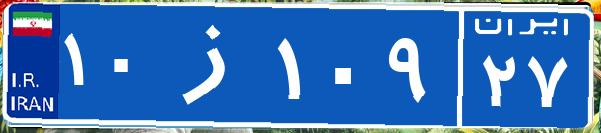0: (330, 28, 385, 110), (110, 28, 158, 105)
1: (273, 28, 330, 110), (57, 26, 110, 107)
2: (475, 38, 525, 113)
7: (525, 38, 570, 115)
9: (385, 28, 445, 110)
ز: (158, 15, 273, 115)
